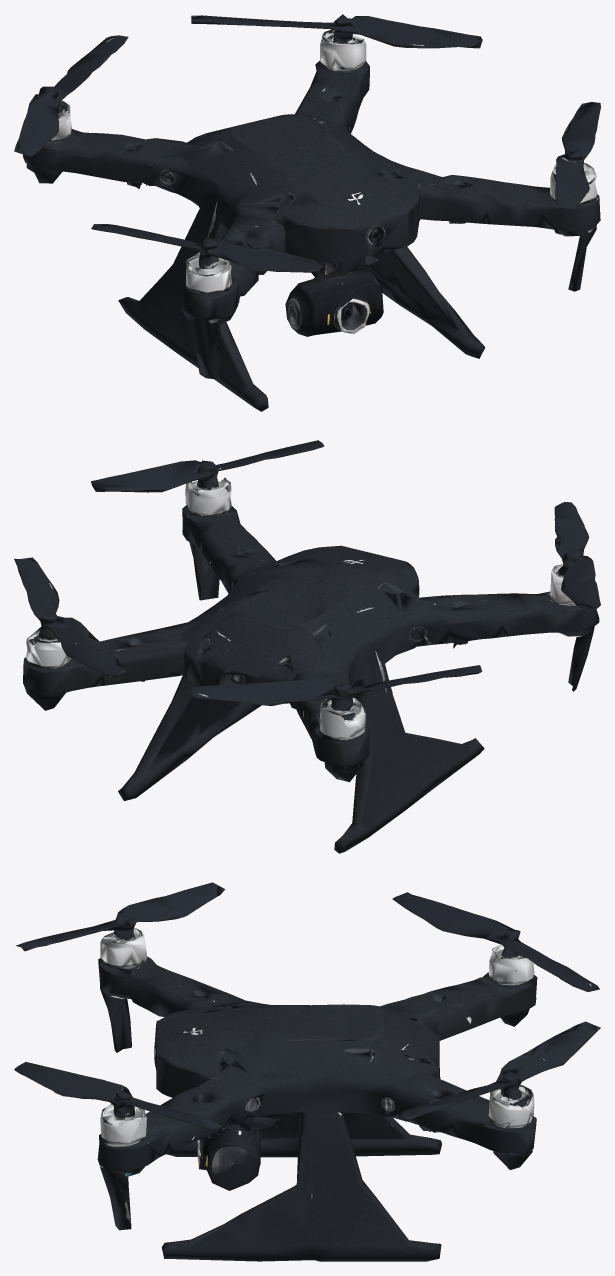
The model's file is drone.glb.
3 views of the same model, one above another, from view 1: azimuth 30°, elevation 25°; view 2: azimuth 150°, elevation 25°; view 3: azimuth 270°, elevation 25° (orthographic).
Bounding box in the file's own units: 1.89 × 0.7336 × 1.9.
1 material, 1 textured.
